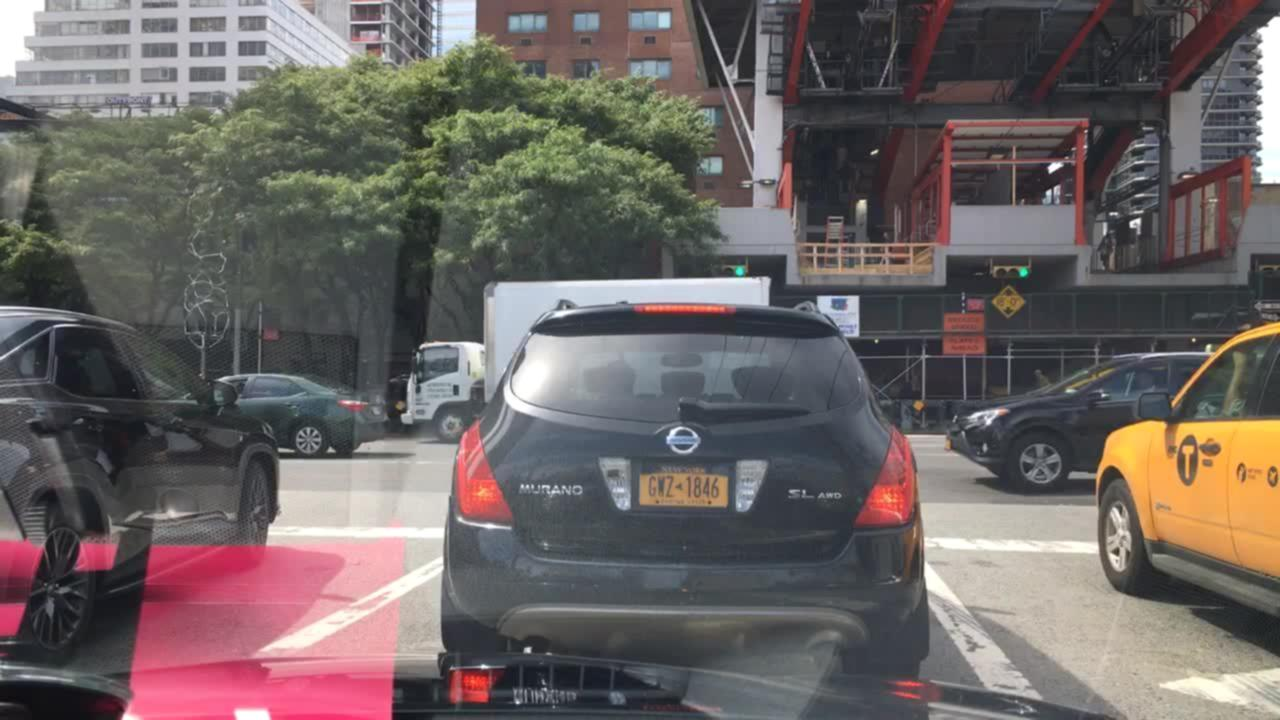Nissan: (659, 423, 710, 463)
